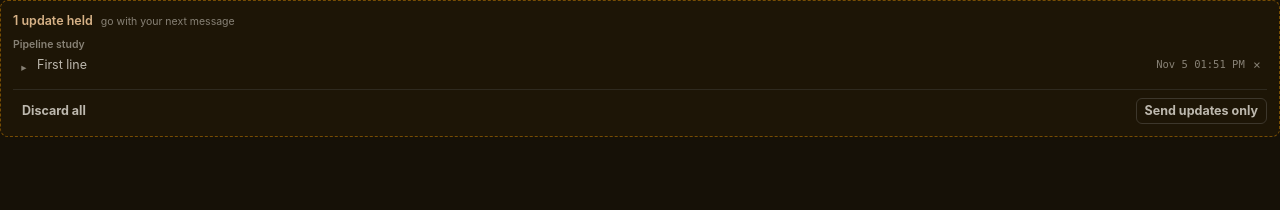
Test case: HeldUpdates › shows one line collapsed and the full markdown (without the turn anchor) expanded
Expected: the element showing "First line" is shown, [37,57,87,72]
Click the button named "Expand update": (24,67) [19,57,29,76]
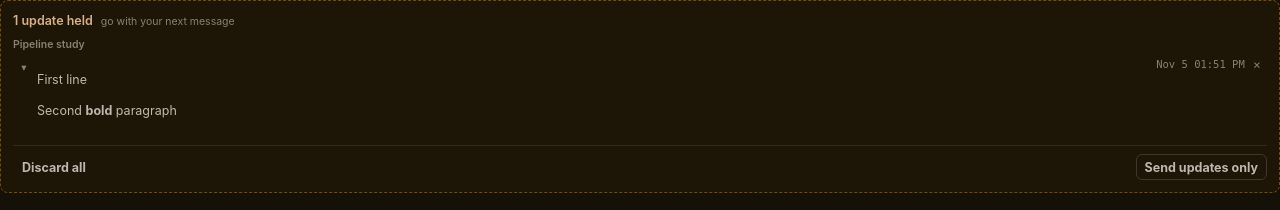
Click the button named "Collapse update": (24,67) [19,57,29,76]
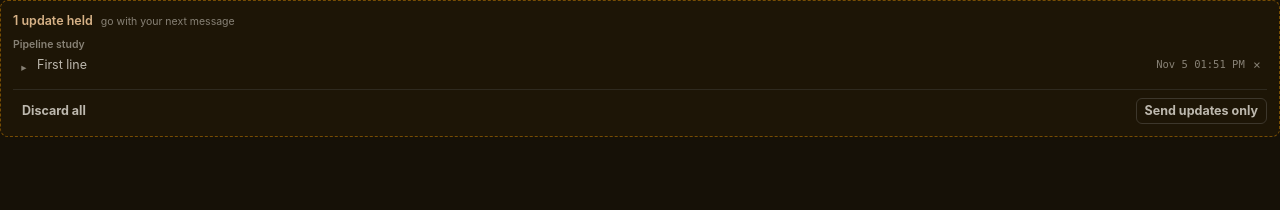
Expected: the element showing "First line" is shown, [37,57,87,72]
